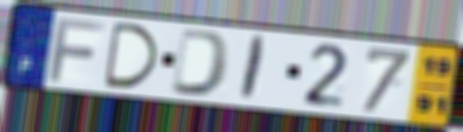2: (303, 42, 350, 111)
7: (359, 45, 414, 114)
D: (168, 26, 234, 99), (102, 20, 162, 91)
F: (46, 15, 108, 84)
I: (236, 33, 270, 103)
